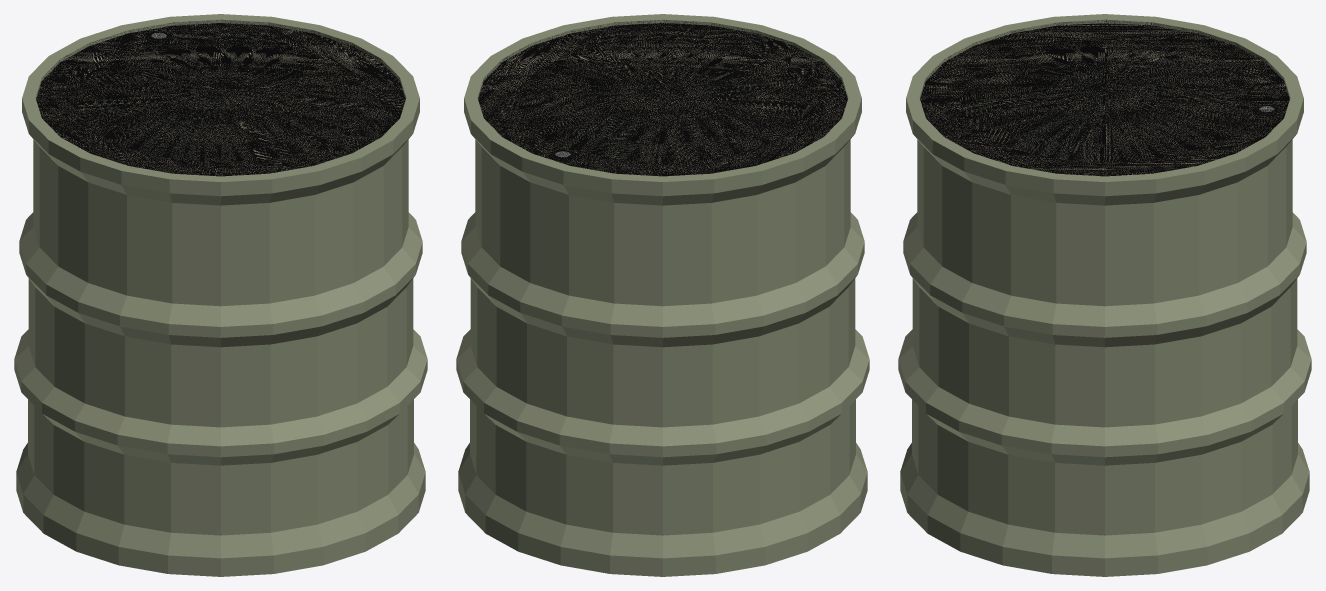
The picture shows the model from 3 angles, left to right: view 1: azimuth 30°, elevation 25°; view 2: azimuth 150°, elevation 25°; view 3: azimuth 270°, elevation 25°; orthographic projection.
Parts seen in each view (by area): view 1: mesh1.001_mesh1-geometry; view 2: mesh1.001_mesh1-geometry; view 3: mesh1.001_mesh1-geometry.
Part boxes in pixels (x1,y1,x2,y2): mesh1.001_mesh1-geometry: (14, 14, 427, 576); mesh1.001_mesh1-geometry: (456, 14, 869, 576); mesh1.001_mesh1-geometry: (898, 14, 1311, 576).
Size of the model in its own units: 0.5646 by 0.6021 by 0.5646.
8 materials, 1 textured.
